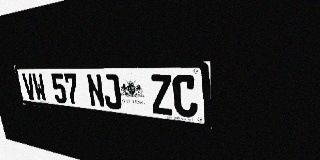5: (51, 73, 68, 104)
7: (63, 74, 81, 105)
C: (172, 75, 198, 118)
J: (101, 74, 122, 110)
N: (86, 74, 106, 108)
V: (22, 73, 37, 101)
W: (31, 73, 47, 102)
Z: (149, 74, 174, 116)
